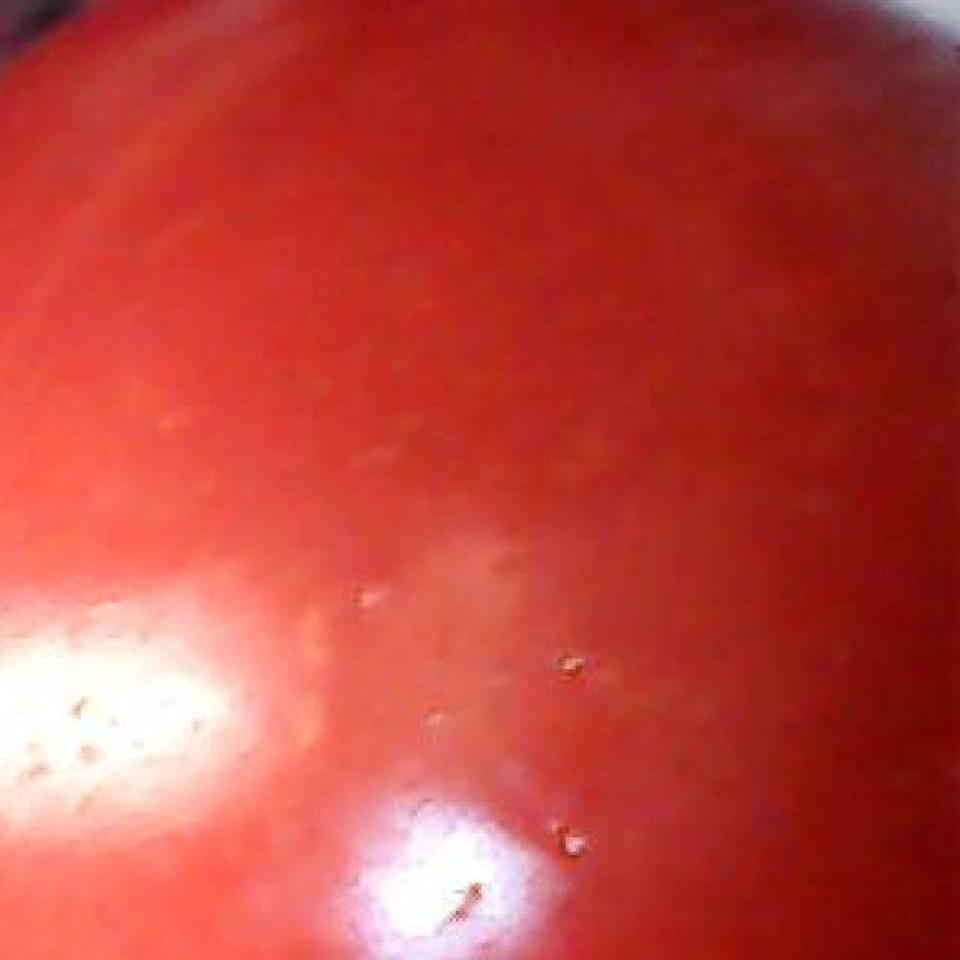Healthy: (11, 13, 960, 960)
